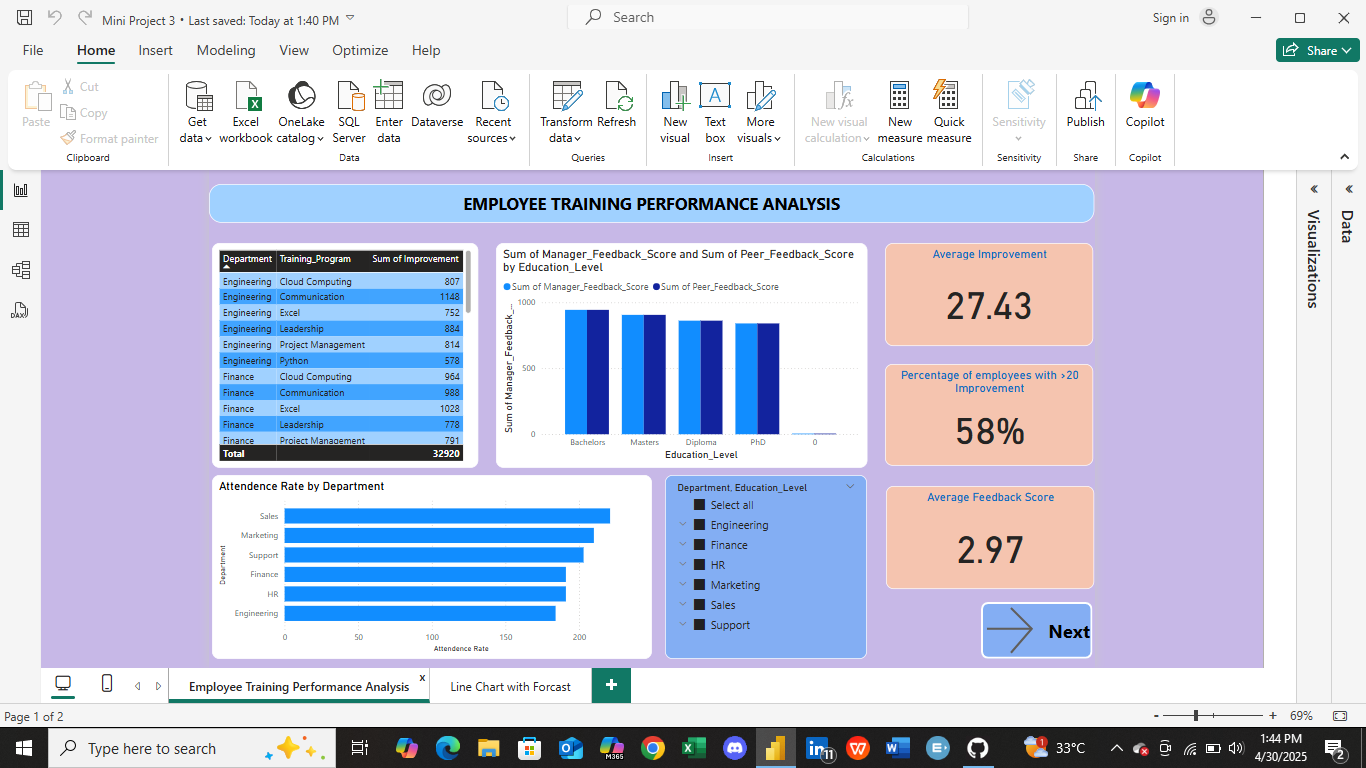

What the dashboard file says about the page in this screenshot:
{"tool":"powerbi","page":{"name":"Employee Training Performance Analysis","canvas":[1280,720],"ordinal":0},"visuals":[{"type":"textbox","box":[0,20.6,1280,56.4],"z":0},{"type":"tableEx","fields":{"Values":["employee_training_performance_d.Department","employee_training_performance_d.Training_Program","Sum(employee_training_performance_d.Improvement)"]},"box":[3.9,105.8,384.5,325.2],"z":1000},{"type":"clusteredColumnChart","fields":{"Category":["employee_training_performance_d.Education_Level"],"Y":["Sum(employee_training_performance_d.Manager_Feedback_Score)","Sum(employee_training_performance_d.Peer_Feedback_Score)"]},"box":[415.7,106,536.8,324.8],"z":2000},{"type":"barChart","fields":{"Category":["employee_training_performance_d.Department"],"Y":["employee_training_performance_d.Attendence Rate"]},"box":[4.3,441,636.1,266],"z":3000},{"type":"card","title":"Average Improvement","fields":{"Values":["Avg(employee_training_performance_d.Improvement)"]},"box":[977.3,105.5,300.7,148.9],"z":4000},{"type":"card","title":"Average Feedback Score","fields":{"Values":["Avg(employee_training_performance_d.Peer_Feedback_Score)"]},"box":[978.8,456.9,300.7,148.9],"z":5000},{"type":"card","title":"Percentage of employees with >20  Improvement","fields":{"Values":["employee_training_performance_d.Count Improvement >20"]},"box":[977.3,280.5,300.7,147.5],"z":6000},{"type":"slicer","fields":{"Values":["employee_training_performance_d.Department Hierarchy.Department","employee_training_performance_d.Department Hierarchy.Education_Level"]},"box":[659.3,441,292,266],"z":7000},{"type":"actionButton","box":[1116.1,624.6,161.9,82.4],"z":7001}]}

Visuals, with their boxes on the page's 1280x720 design canvas (x1, y1, x2, y2). These are canvas units, not pixel positions in the 1366x768 screenshot, which may show the page scaled, cropped or inside an application window:
textbox: [left=0, top=21, right=1280, bottom=77]
tableEx - employee_training_performance_d.Department x employee_training_performance_d.Training_Program: [left=4, top=106, right=388, bottom=431]
clusteredColumnChart - employee_training_performance_d.Education_Level x Sum(employee_training_performance_d.Manager_Feedback_Score): [left=416, top=106, right=952, bottom=431]
barChart - employee_training_performance_d.Department x employee_training_performance_d.Attendence Rate: [left=4, top=441, right=640, bottom=707]
"Average Improvement" card: [left=977, top=106, right=1278, bottom=254]
"Average Feedback Score" card: [left=979, top=457, right=1280, bottom=606]
"Percentage of employees with >20  Improvement" card: [left=977, top=280, right=1278, bottom=428]
slicer - employee_training_performance_d.Department Hierarchy.Department x employee_training_performance_d.Department Hierarchy.Education_Level: [left=659, top=441, right=951, bottom=707]
actionButton: [left=1116, top=625, right=1278, bottom=707]
